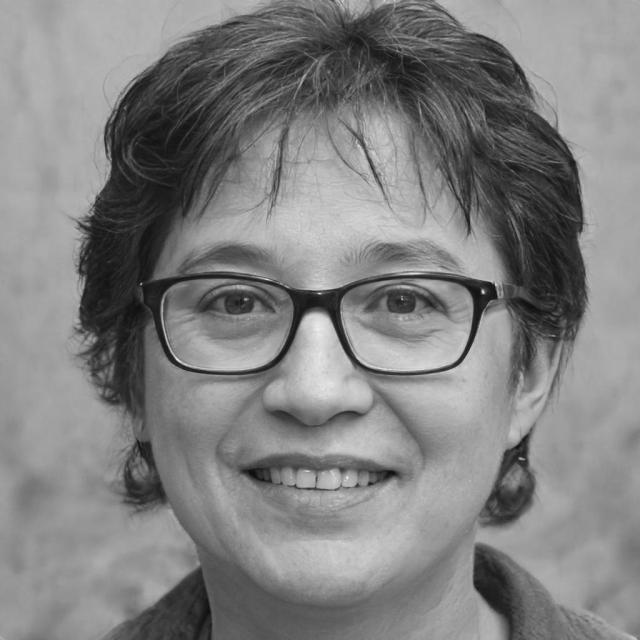lens: (342, 278, 474, 371), (164, 278, 294, 372)
